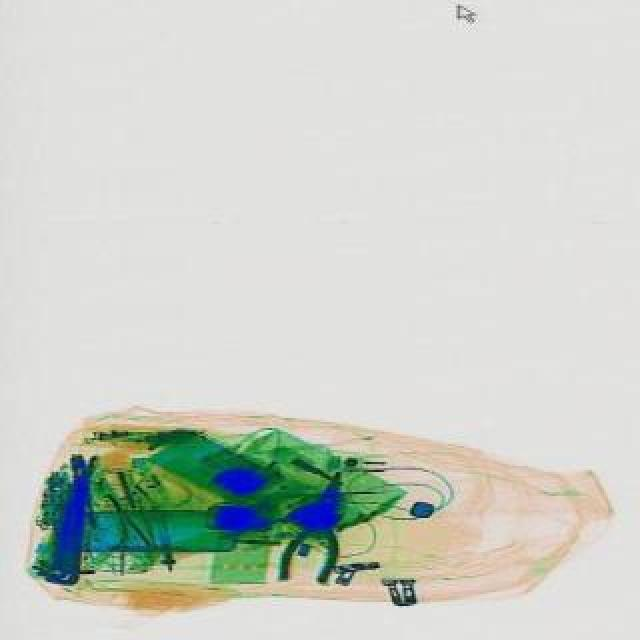wrench: (270, 462, 358, 590)
